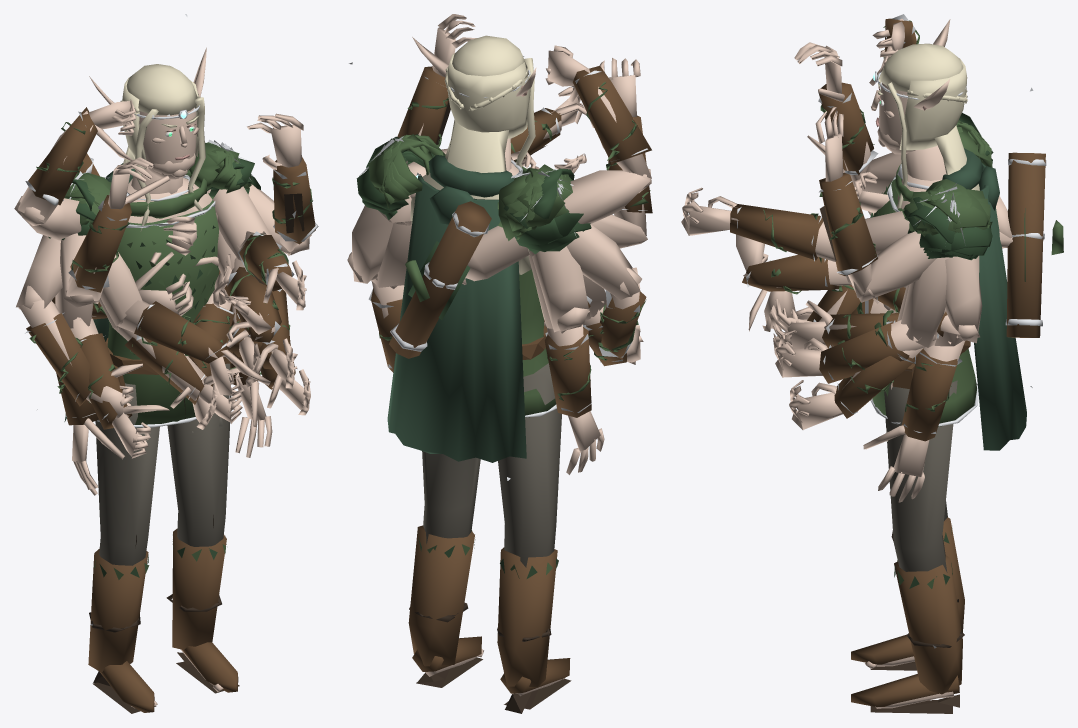
Rendered from hero_1.glb.
3 renders of one model, left to right at view 1: azimuth 30°, elevation 25°; view 2: azimuth 150°, elevation 25°; view 3: azimuth 270°, elevation 25°, orthographic. The views are drawn at different scales.
Visible parts, largest first — view 1: B_8d, B_7d, B_6d, B_0d, R.cast_33d, R.raised_21d, R.staffR_26d, R.xbowR_41d, L.cast_69d, R.staffR_29d, L.bowArm_54d, R.raised_18d (+35 smaller); view 2: B_9d, B_8d, B_7d, B_0d, R.raised_18d, R.raised_21d, R.carry_42d, R.staffR_26d, R.rest_13d, B_6d, L.cast_69d, L.carry_74d (+24 smaller); view 3: B_9d, B_8d, B_0d, B_7d, L.cast_69d, L.bowArm_57d, L.shield_50d, B_6d, L.rest_49d, L.cast_66d, L.carry_74d, L.shield_53d (+23 smaller).
Boxes of the visible parts, box(x1,y1,x2,y2) form: B_8d: box(88, 529, 239, 713); B_7d: box(95, 363, 231, 565); B_6d: box(97, 170, 232, 427); B_0d: box(89, 47, 206, 231); R.cast_33d: box(68, 195, 131, 292); R.raised_21d: box(25, 107, 97, 205); R.staffR_26d: box(16, 235, 71, 365); R.xbowR_41d: box(134, 301, 230, 363); L.cast_69d: box(272, 157, 318, 244); R.staffR_29d: box(25, 312, 91, 406); L.bowArm_54d: box(212, 186, 291, 280); R.raised_18d: box(14, 111, 93, 240); B_9d: box(349, 62, 526, 480); B_8d: box(408, 525, 571, 713); B_7d: box(422, 363, 561, 567); B_0d: box(410, 35, 536, 274); R.raised_18d: box(563, 68, 651, 223); R.raised_21d: box(572, 66, 651, 163); R.carry_42d: box(532, 246, 590, 333); R.staffR_26d: box(566, 224, 641, 310); R.rest_13d: box(544, 324, 591, 417); B_6d: box(426, 155, 556, 417); L.cast_69d: box(397, 66, 450, 146); L.carry_74d: box(347, 205, 404, 283); B_9d: box(942, 87, 1063, 450); B_8d: box(851, 517, 964, 713); B_0d: box(871, 19, 979, 211); B_7d: box(884, 380, 957, 572); L.cast_69d: box(819, 172, 877, 276); L.bowArm_57d: box(730, 203, 823, 261); L.shield_50d: box(891, 257, 951, 351); B_6d: box(870, 163, 978, 426); L.rest_49d: box(901, 348, 962, 441); L.cast_66d: box(848, 231, 936, 302); L.carry_74d: box(940, 256, 982, 343); L.shield_53d: box(819, 321, 909, 383).
Size of the model in its own units: 0.8961 by 1.93 by 1.04.
